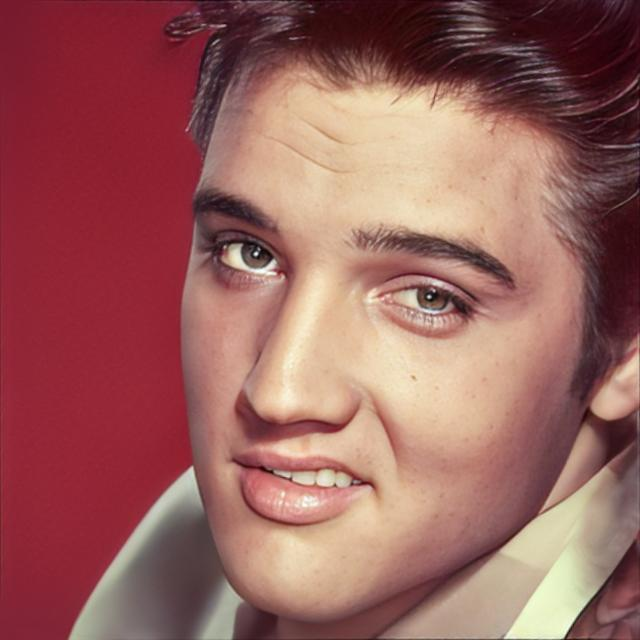disgust: (177, 43, 588, 624)
